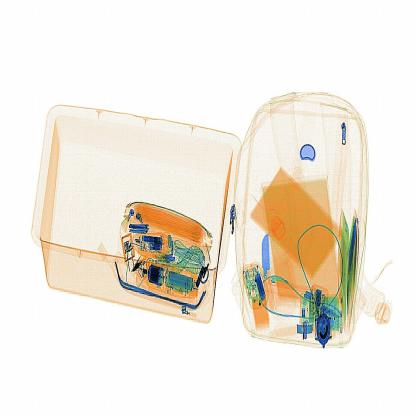wrench: (259, 234, 278, 304)
